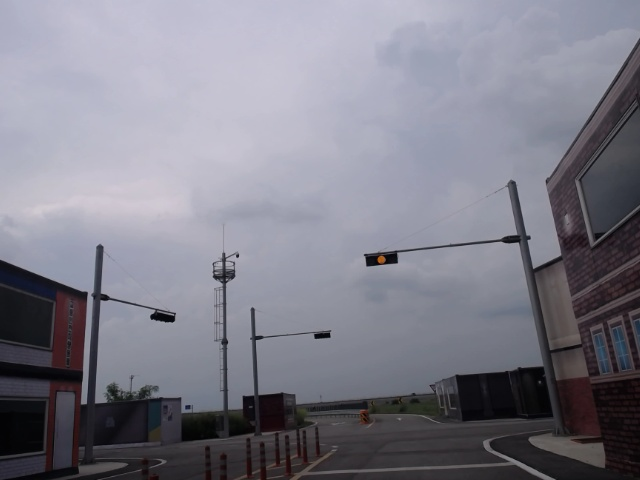orange_3: (365, 252, 399, 267)
